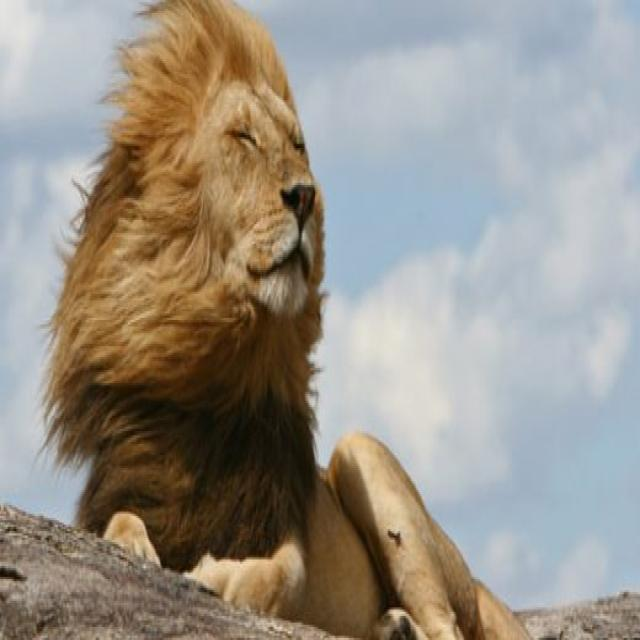lions: (37, 7, 597, 640)
